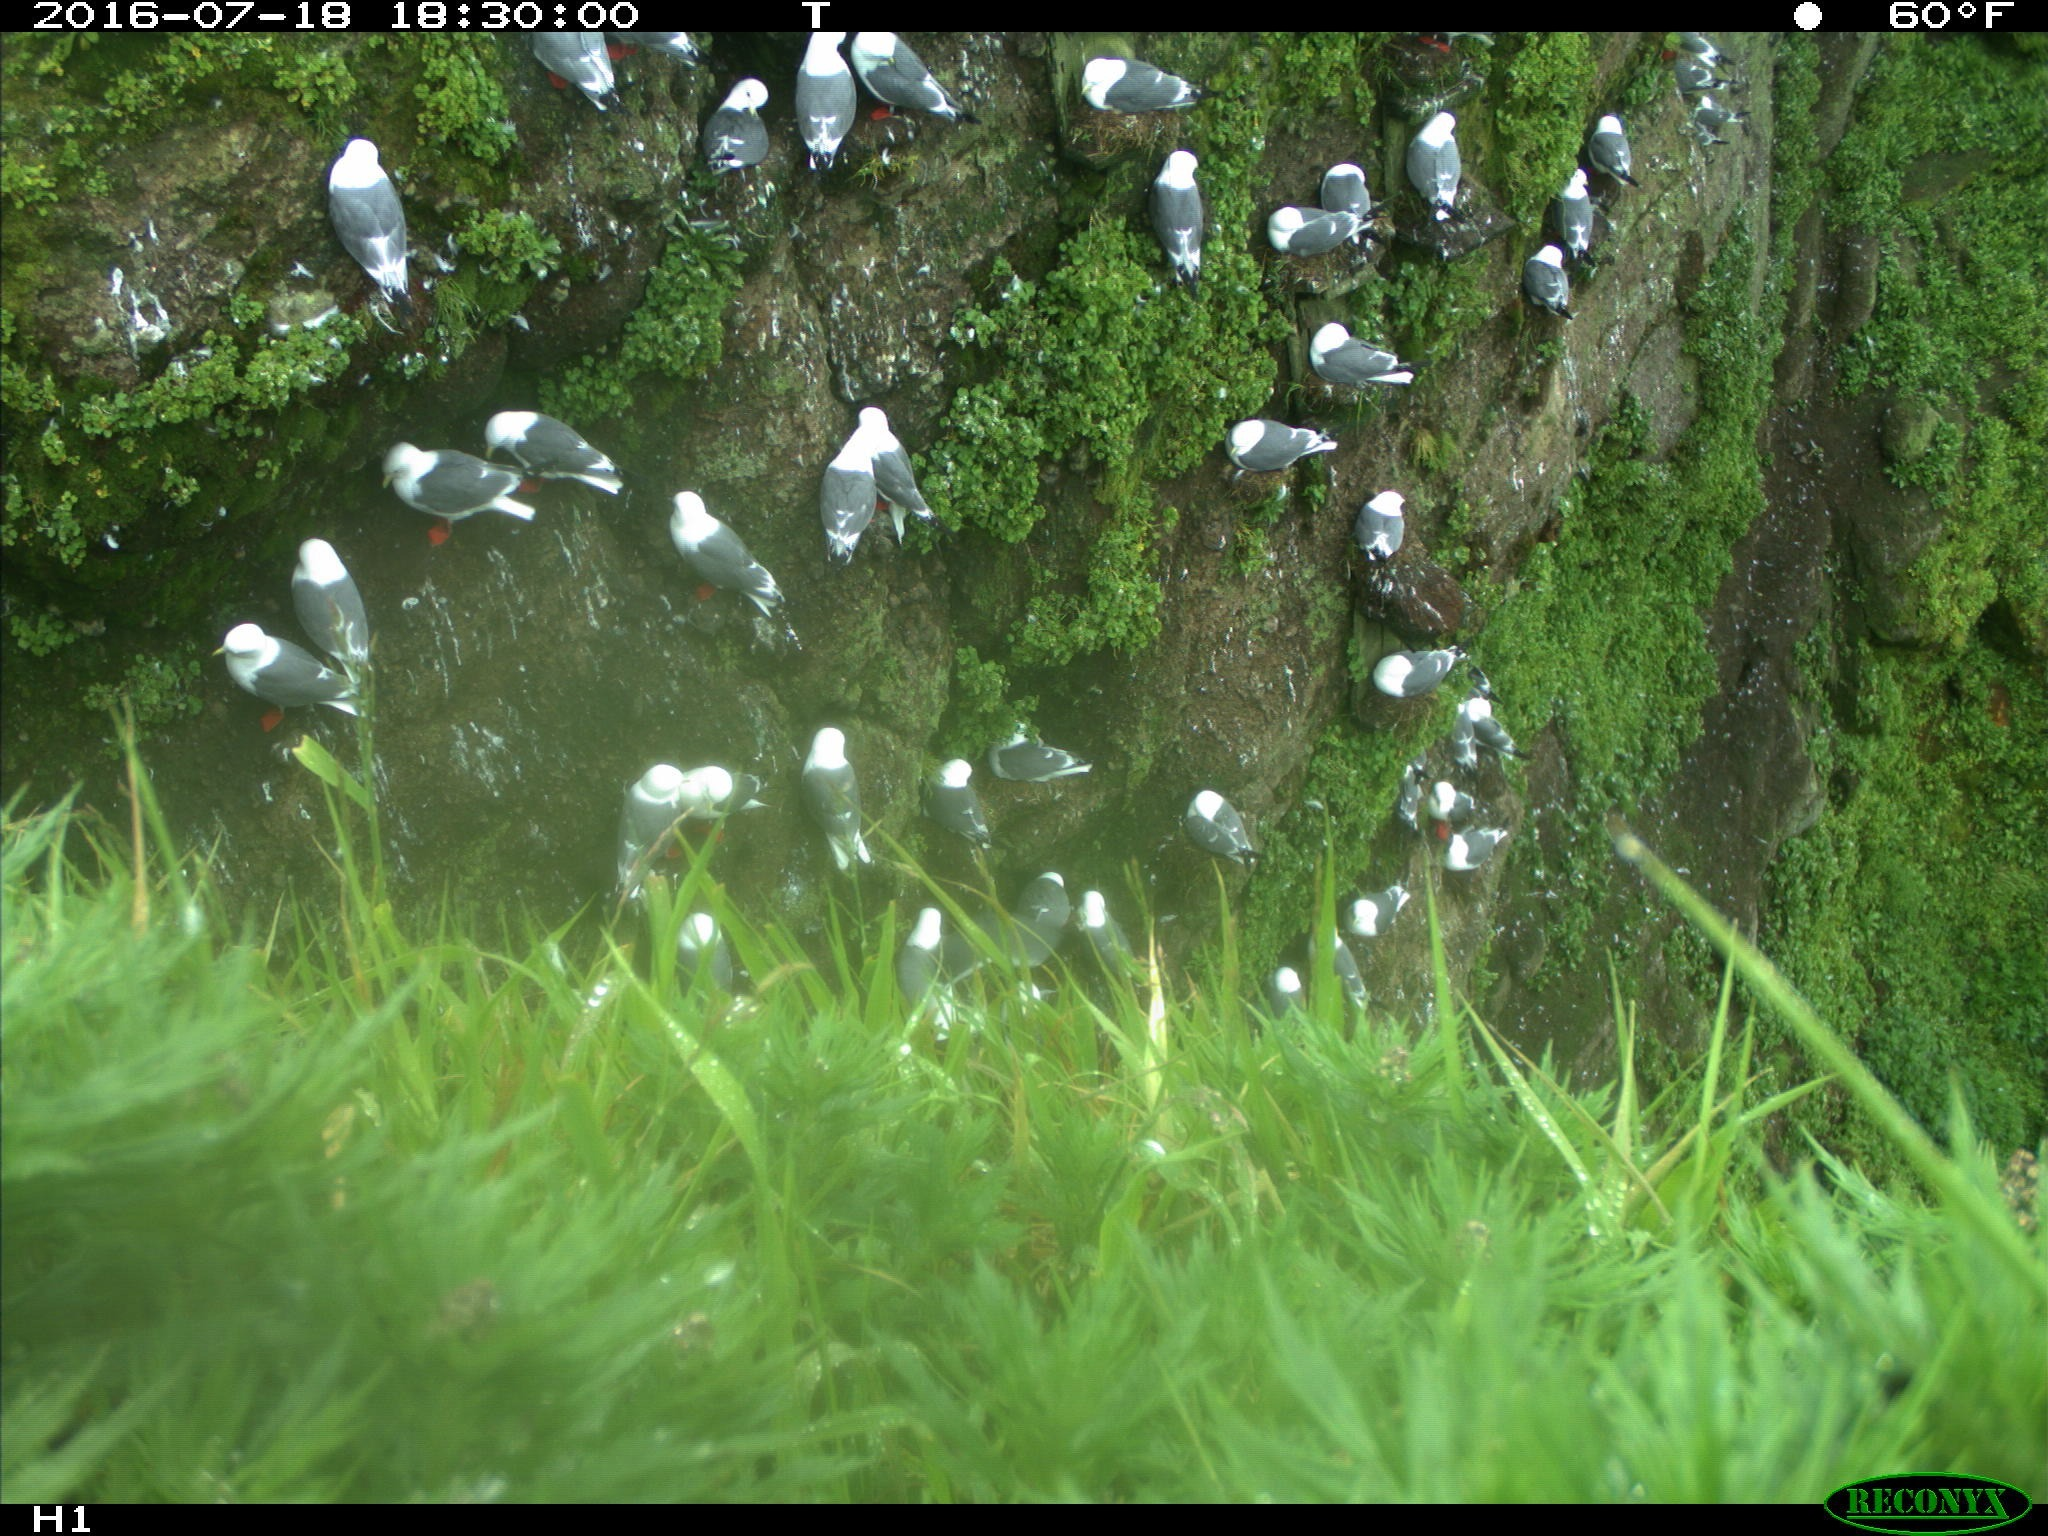Kittiwake: (292, 126, 466, 326), (211, 610, 402, 766), (255, 502, 411, 679), (350, 416, 564, 537), (656, 476, 813, 632), (889, 892, 1009, 1094), (468, 387, 651, 518), (784, 692, 895, 902), (797, 397, 906, 592), (845, 23, 1011, 145), (856, 390, 964, 578), (1382, 762, 1535, 892), (780, 10, 877, 202), (595, 744, 692, 928), (997, 842, 1092, 1026), (1200, 395, 1371, 492), (492, 24, 643, 126), (681, 58, 792, 190), (971, 712, 1119, 810), (1143, 142, 1240, 290), (1293, 311, 1435, 411), (660, 866, 755, 1015), (1051, 37, 1226, 118), (1397, 98, 1488, 248), (1072, 876, 1190, 991), (1159, 763, 1271, 883), (1653, 24, 1756, 152), (921, 745, 1014, 879), (679, 736, 800, 836), (1338, 476, 1450, 579), (1434, 807, 1550, 905), (1332, 642, 1488, 712), (1247, 194, 1385, 269), (1574, 92, 1664, 208), (1300, 916, 1390, 1028), (1517, 239, 1603, 344), (1321, 884, 1459, 947), (1438, 695, 1532, 783), (1545, 161, 1613, 265), (1314, 144, 1382, 236), (608, 19, 719, 74), (1256, 949, 1321, 1042)
